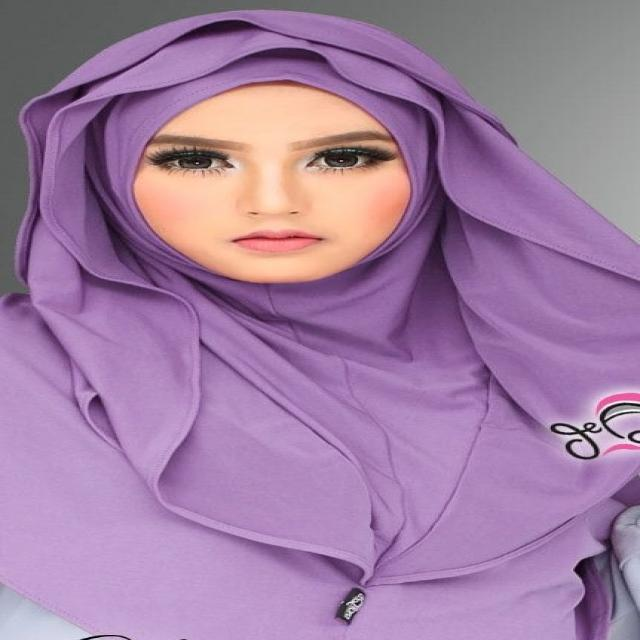head: (64, 16, 520, 296)
